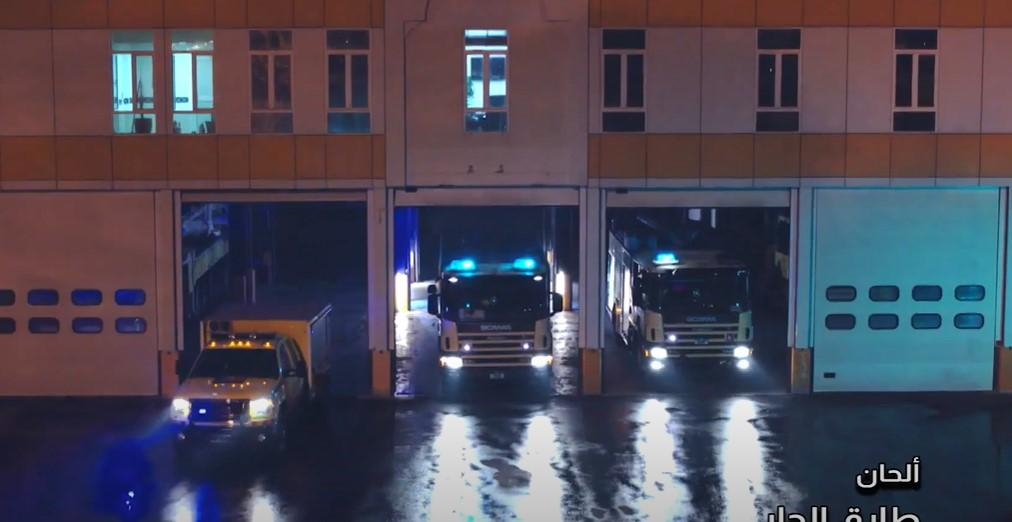firetruck_off: (176, 303, 333, 465)
firetruck_on: (606, 210, 766, 390), (426, 231, 563, 405)
